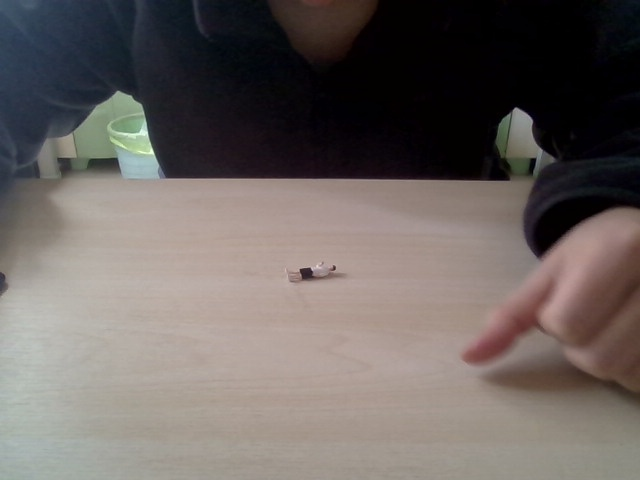fall: (282, 256, 338, 285)
